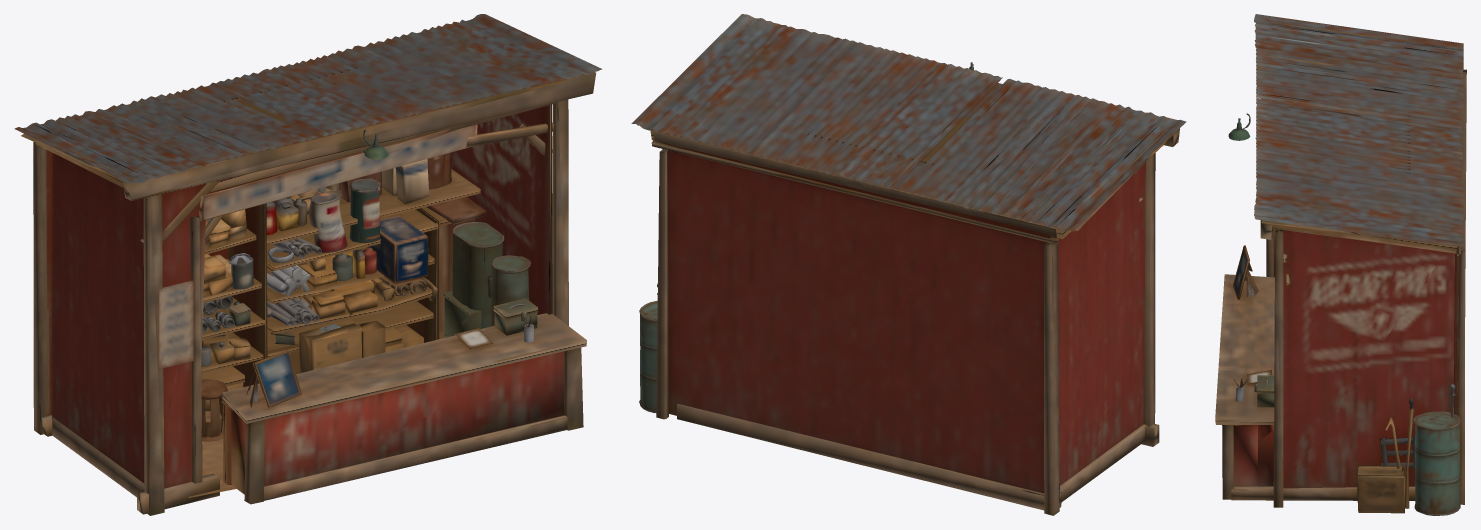
File: parts_shed.glb
3 views of the same model, side by side, from view 1: azimuth 30°, elevation 25°; view 2: azimuth 150°, elevation 25°; view 3: azimuth 270°, elevation 25° (orthographic). The views are drawn at different scales.
Visible parts, largest first — view 1: geometry_0; view 2: geometry_0; view 3: geometry_0.
Part boxes in pixels (<box>): geometry_0: <box>14,14,602,515</box>; geometry_0: <box>631,14,1186,515</box>; geometry_0: <box>1215,14,1466,515</box>.
Bounding box in the file's own units: 0.9526 × 0.6592 × 0.4932.
Materials: 1 (1 with a texture image).
